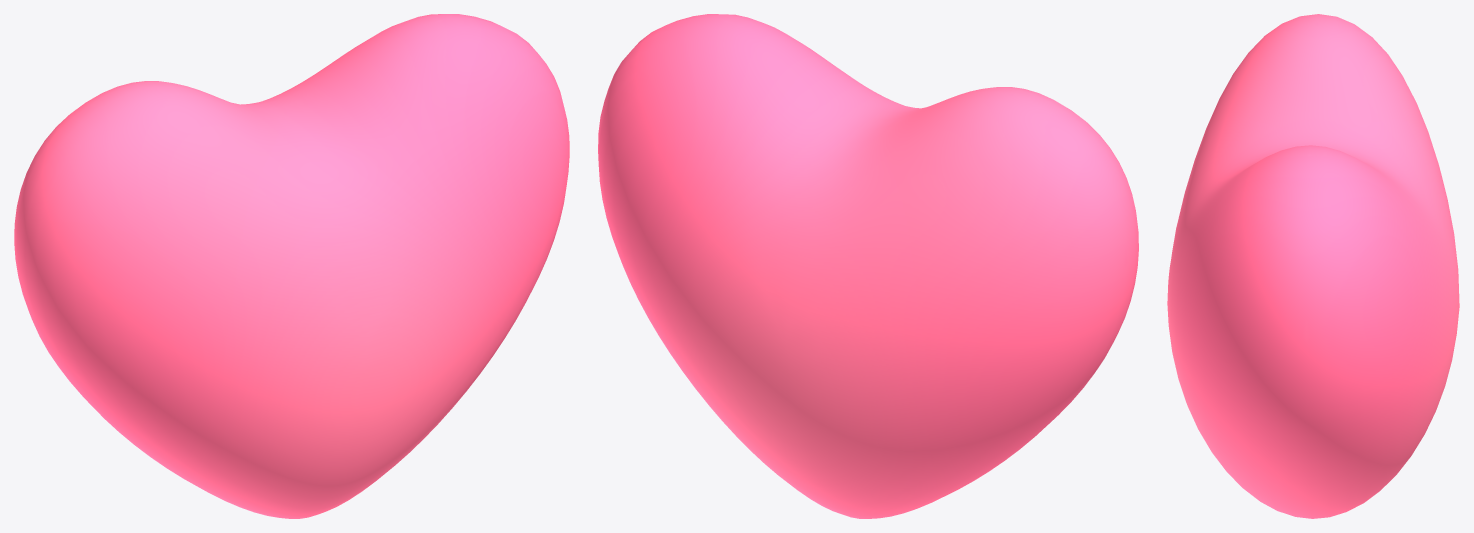
The model's file is heart-crystal-v21-pink.glb.
3 views of the same model, side by side, from view 1: azimuth 30°, elevation 25°; view 2: azimuth 150°, elevation 25°; view 3: azimuth 270°, elevation 25° (orthographic). The views are drawn at different scales.
Visible parts, largest first — view 1: Heart_Glass; view 2: Heart_Glass; view 3: Heart_Glass.
Boxes of the visible parts, x1,y1,x2,y2 form: Heart_Glass: (14,14,569,518); Heart_Glass: (598,14,1138,518); Heart_Glass: (1167,14,1459,518).
Bounding box in the file's own units: 0.08 × 0.0665 × 0.0416.
Materials: 1 (1 with a texture image).
